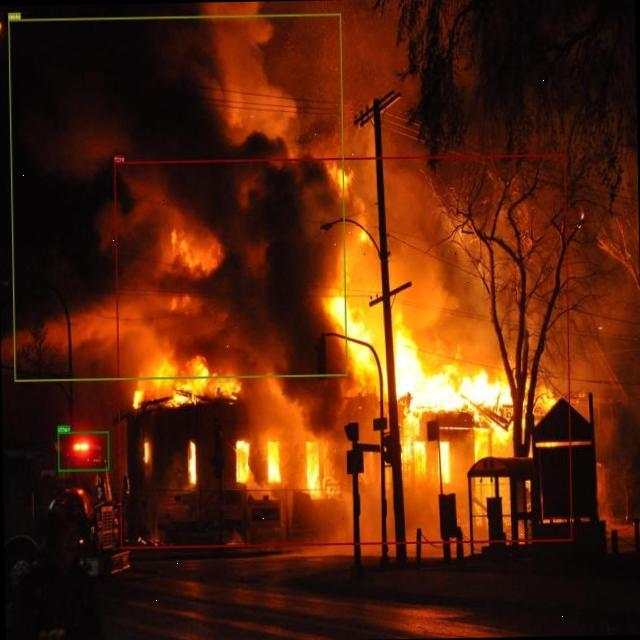fire: (113, 153, 572, 548)
smoke: (8, 12, 346, 380)
